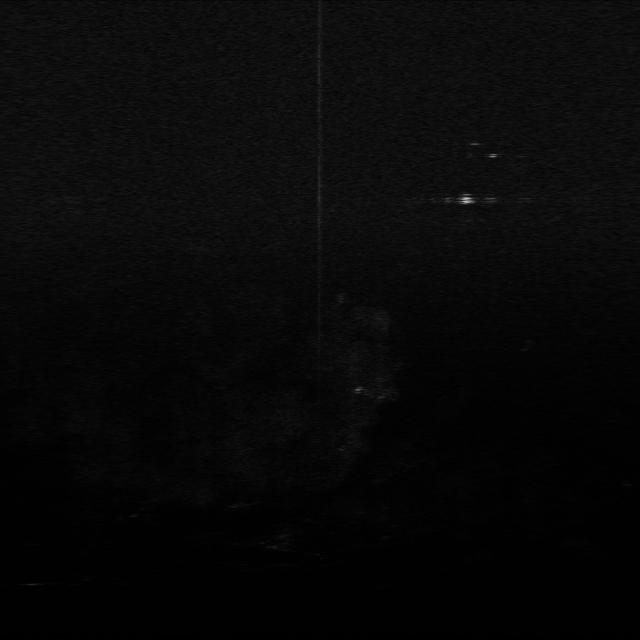rov: (456, 191, 482, 206)
